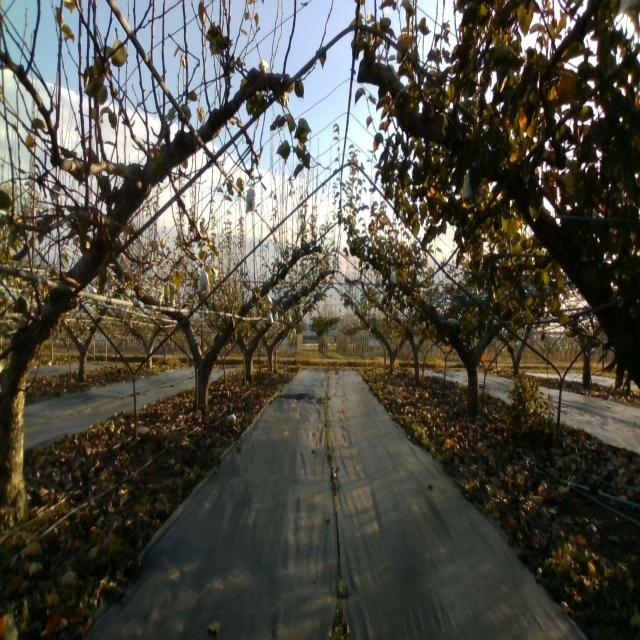pearbags: (197, 266, 211, 294), (244, 188, 257, 213)
